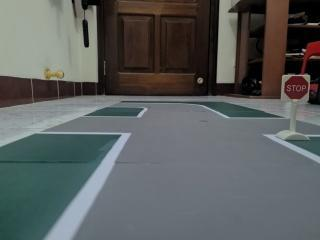stop: (281, 72, 312, 106)
